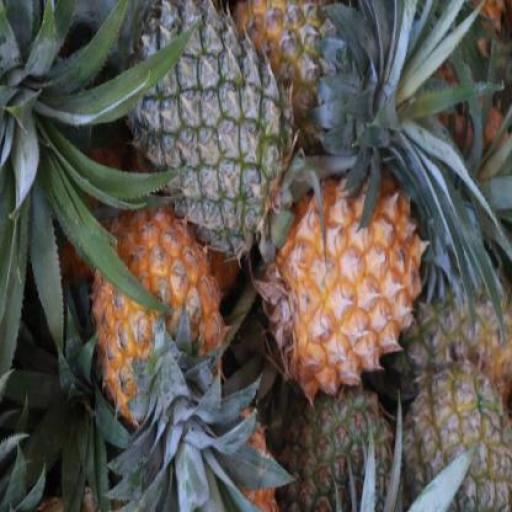Pineapple - v8 v1: (264, 171, 430, 400), (90, 207, 228, 426)
